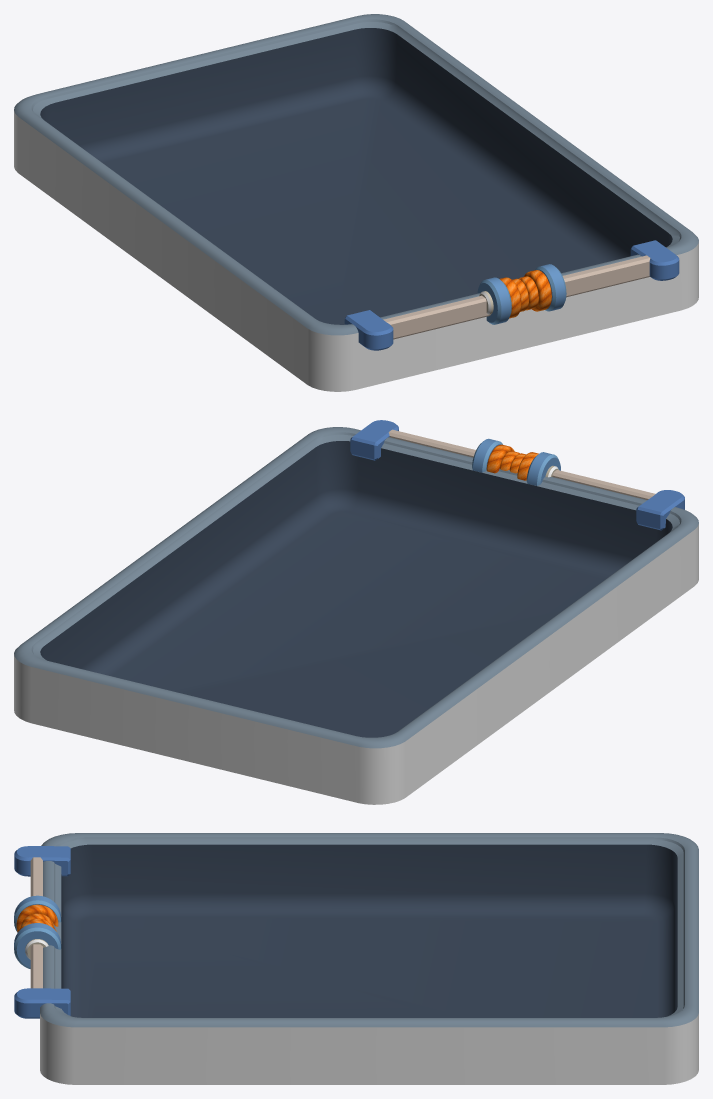
Rendered from Platform.fbx.
3 views of the same model, one above another, from view 1: azimuth 30°, elevation 25°; view 2: azimuth 150°, elevation 25°; view 3: azimuth 270°, elevation 25° (orthographic).
Visible parts, largest first — view 1: Platform, Pulley1, Rope1; view 2: Platform, Pulley1; view 3: Platform, Pulley1, Rope4.
Boxes of the visible parts, x1,y1,x2,y2 form: Platform: (14, 14, 698, 391); Pulley1: (477, 264, 566, 324); Rope1: (524, 270, 551, 311); Platform: (14, 420, 698, 804); Pulley1: (472, 438, 560, 485); Platform: (14, 833, 698, 1084); Pulley1: (14, 895, 61, 968); Rope4: (16, 904, 58, 932).
Bounding box in the file's own units: 570 × 118 × 856.
Materials: 3 (2 with a texture image).
